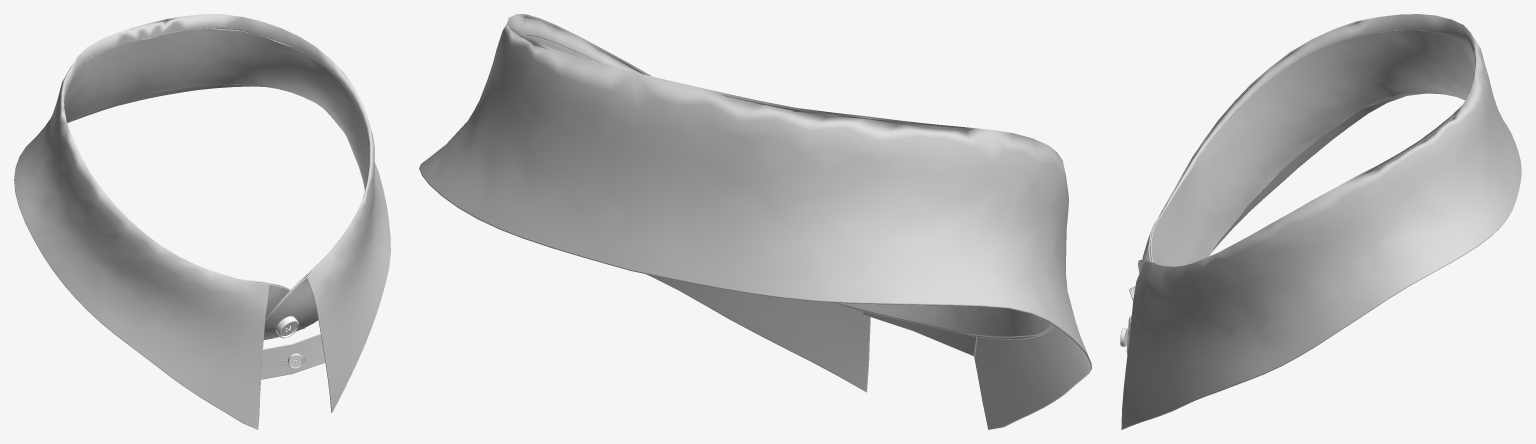
Rendered from Tab_Collar.glb.
3 views of the same model, side by side, from view 1: azimuth 30°, elevation 25°; view 2: azimuth 150°, elevation 25°; view 3: azimuth 270°, elevation 25° (orthographic). The views are drawn at different scales.
Visible parts, largest first — view 1: Pattern_4935173_Node.001, inner_Node.001, Pattern_4935171_Node.001, Pattern_831913_Node, button.004; view 2: Pattern_4935173_Node.001, inner_Node.001, Pattern_831912_Node; view 3: Pattern_4935173_Node.001, inner_Node.001, Pattern_4935171_Node.001.
Boxes of the visible parts, <box> form: Pattern_4935173_Node.001: <box>14,14,390,429</box>; inner_Node.001: <box>64,28,368,319</box>; Pattern_4935171_Node.001: <box>67,28,368,339</box>; Pattern_831913_Node: <box>260,334,325,379</box>; button.004: <box>275,316,298,338</box>; Pattern_4935173_Node.001: <box>419,14,1091,429</box>; inner_Node.001: <box>528,36,1051,337</box>; Pattern_831912_Node: <box>863,311,977,356</box>; Pattern_4935173_Node.001: <box>1121,14,1521,429</box>; inner_Node.001: <box>1143,30,1475,266</box>; Pattern_4935171_Node.001: <box>1138,30,1464,273</box>.
Size of the model in its own units: 15.92 by 13.1 by 13.57.
Materials: 5 (2 with a texture image).
